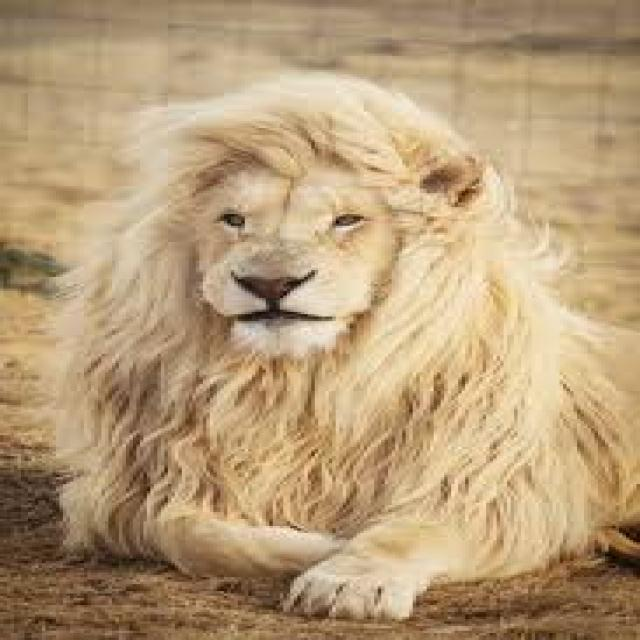Lion: (51, 68, 634, 636)
